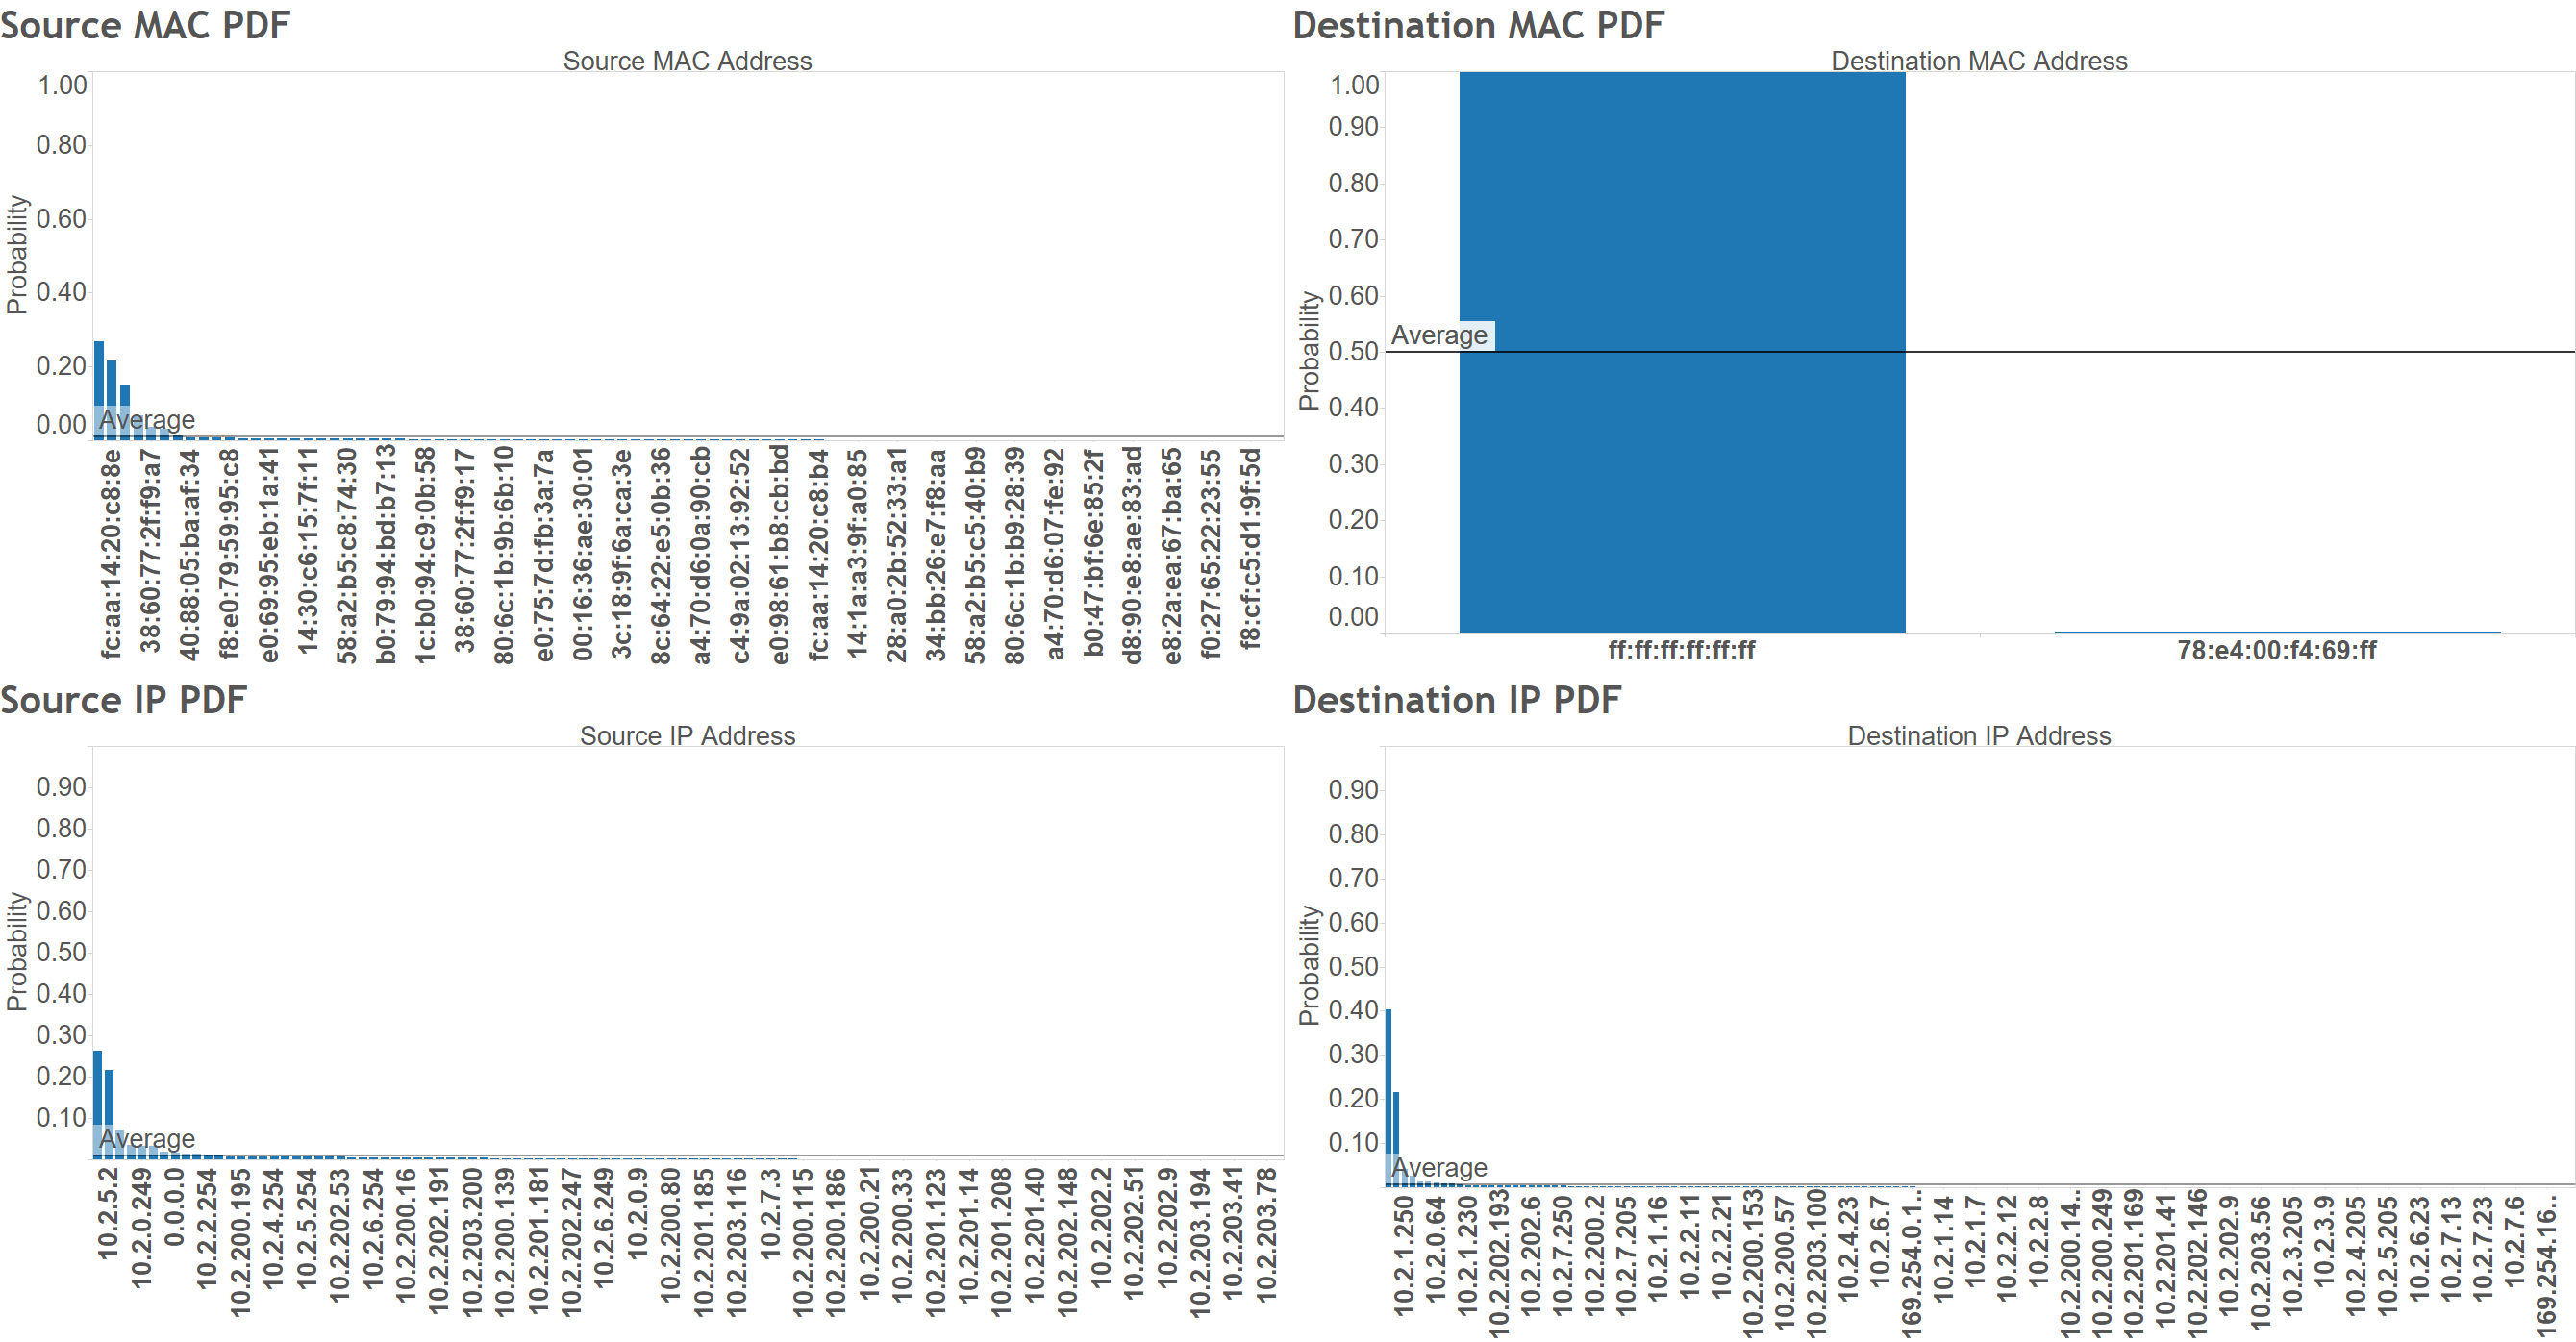

What the dashboard file says about the page in this screenshot:
{"tool":"tableau","page":{"name":"PDFs Dashboard","canvas":[1000,1000],"units":"permille","ordinal":1},"visuals":[{"type":"worksheet","title":"Source MAC PDF","mark":"Automatic","rows":["Calculation_558446359774420994"],"cols":["hwsrc"],"box":[0,0,500,500]},{"type":"worksheet","title":"Destination MAC PDF","mark":"Automatic","rows":["Calculation_558446359774584835"],"cols":["hwdst"],"box":[500,0,500,500]},{"type":"worksheet","title":"Source IP PDF","mark":"Automatic","rows":["Calculation_558446359785705483"],"cols":["ipsrc"],"box":[0,500,500,500]},{"type":"worksheet","title":"Destination IP PDF","mark":"Automatic","rows":["Calculation_558446359774961669"],"cols":["ipdst"],"box":[500,500,500,500]}]}

Visuals, with their boxes on the dashboard's canvas, which has no fixed pixel size, in thousandths of its width and height (x1, y1, x2, y2). These are canvas units, not pixel positions in the 2576x1342 screenshot, which may show the page scaled, cropped or inside an application window:
"Source MAC PDF" worksheet: bbox=(0, 0, 500, 500)
"Destination MAC PDF" worksheet: bbox=(500, 0, 1000, 500)
"Source IP PDF" worksheet: bbox=(0, 500, 500, 1000)
"Destination IP PDF" worksheet: bbox=(500, 500, 1000, 1000)
